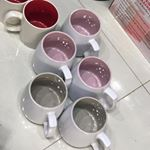cups: (17, 70, 69, 142), (56, 94, 116, 150), (4, 1, 61, 50)
